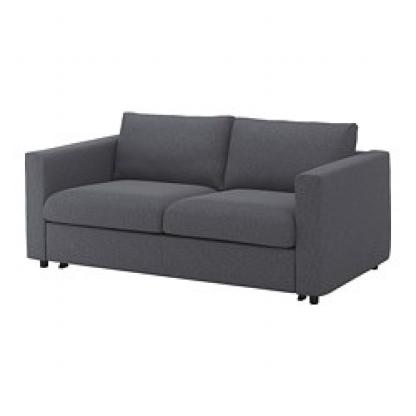Sofa: (17, 77, 394, 306)
